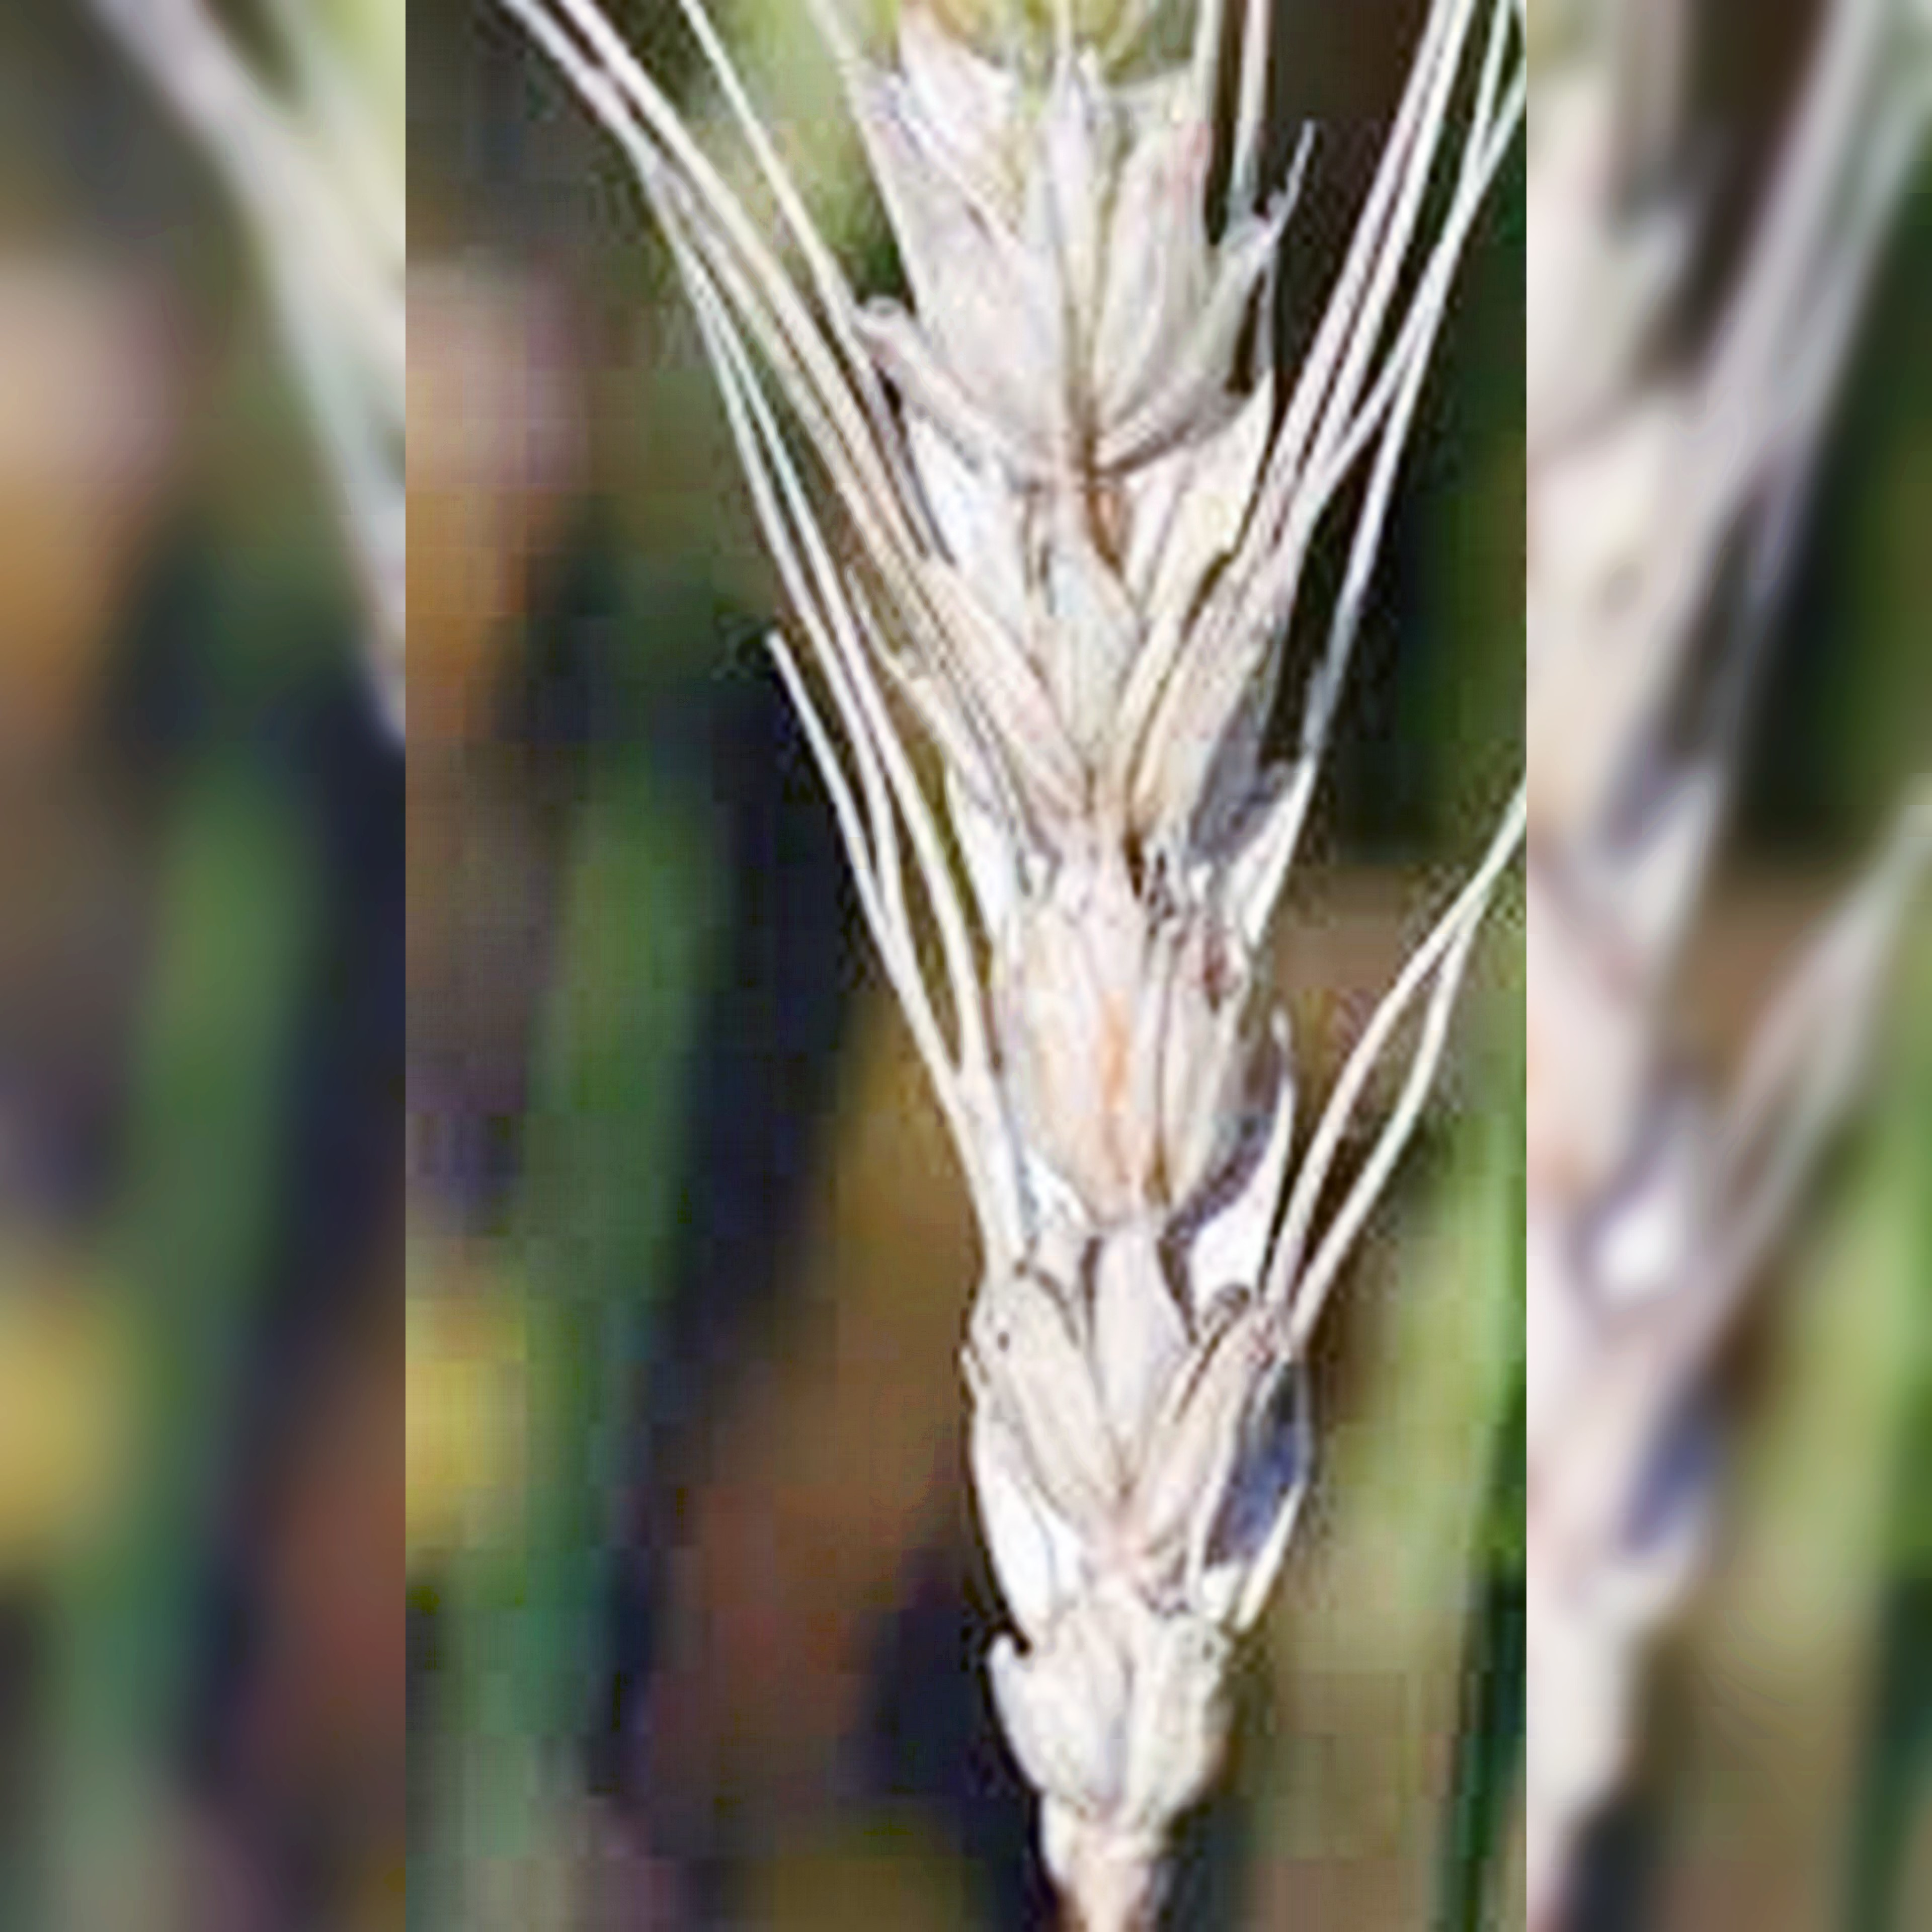Wheat scab: (798, 46, 1345, 1829)
